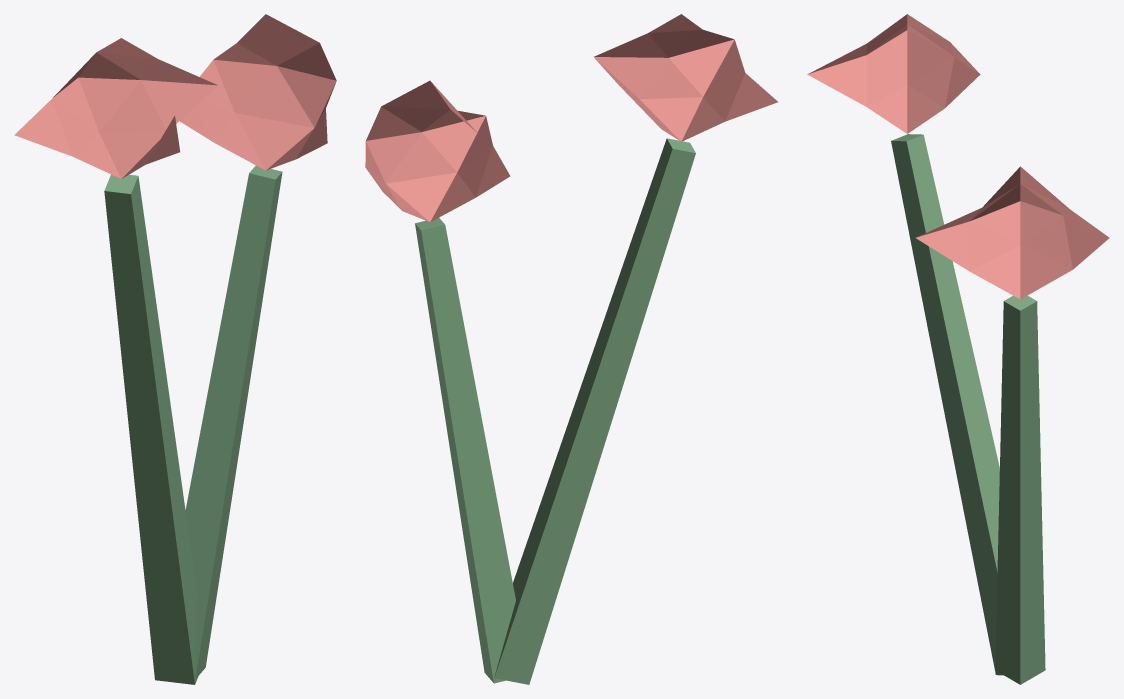
The model's file is flower_v16.glb.
The picture shows the model from 3 angles, left to right: view 1: azimuth 30°, elevation 25°; view 2: azimuth 150°, elevation 25°; view 3: azimuth 270°, elevation 25°; orthographic projection. The views are drawn at different scales.
Visible parts, largest first — view 1: lod0; view 2: lod0; view 3: lod0.
Boxes of the visible parts, box(x1,y1,x2,y2) form: lod0: box(14, 14, 336, 684); lod0: box(365, 14, 777, 684); lod0: box(807, 14, 1109, 684).
Size of what is drawn, in the model's own units: 0.274 by 0.4818 by 0.217.
